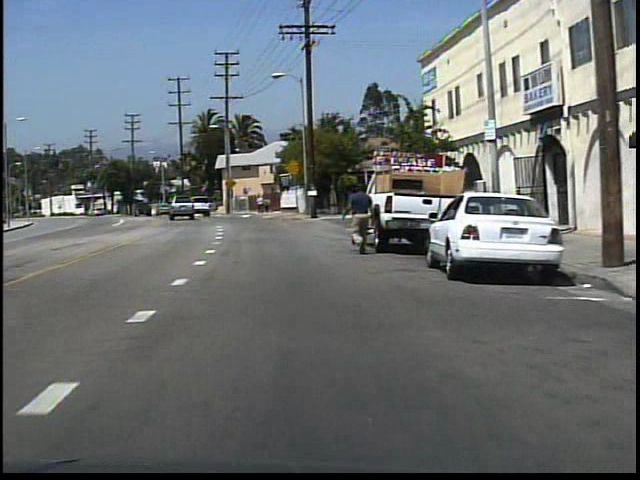person: (341, 182, 381, 256), (255, 194, 264, 216), (263, 197, 273, 215)
